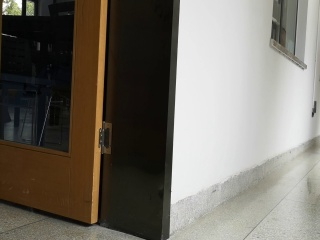room: (3, 3, 181, 240)
